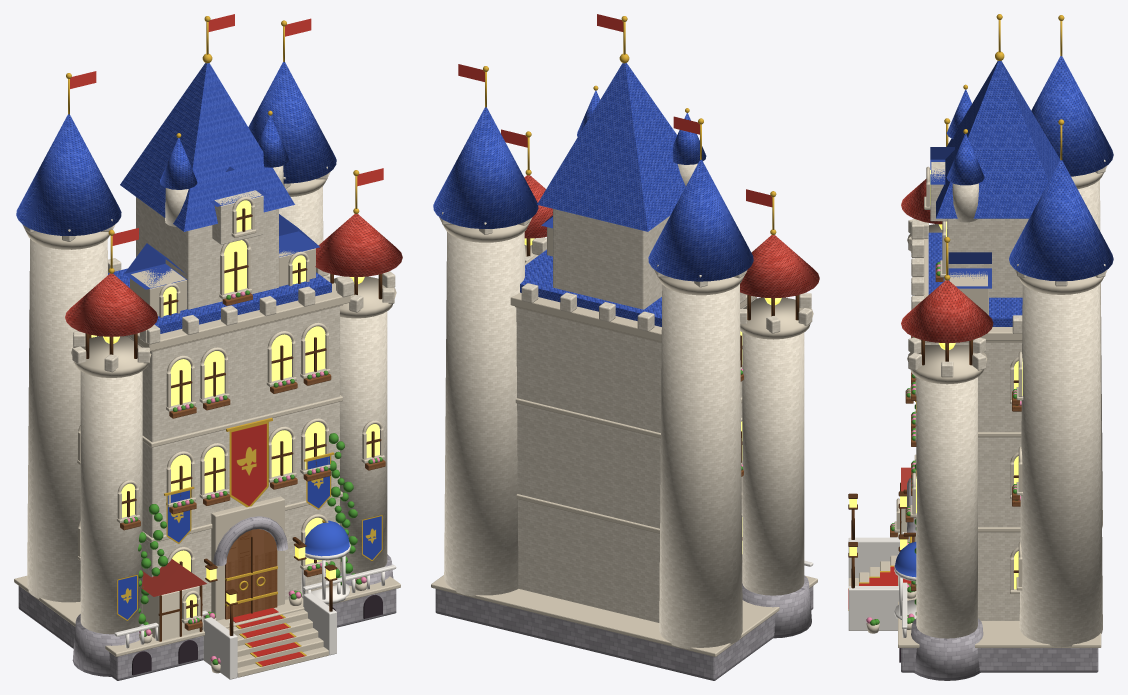
The model's file is bld_castle_villa_f3.glb.
3 views of the same model, side by side, from view 1: azimuth 30°, elevation 25°; view 2: azimuth 150°, elevation 25°; view 3: azimuth 270°, elevation 25° (orthographic).
Parts seen in each view (by area): view 1: castle_villa_f3; view 2: castle_villa_f3; view 3: castle_villa_f3.
Boxes of the visible parts, x1=… form: castle_villa_f3: x1=14, y1=14, x2=402, y2=680; castle_villa_f3: x1=431, y1=14, x2=819, y2=680; castle_villa_f3: x1=848, y1=14, x2=1113, y2=680.
Size of the model in its own units: 12.1 by 21.15 by 8.61.
Materials: 19 (7 with a texture image).
